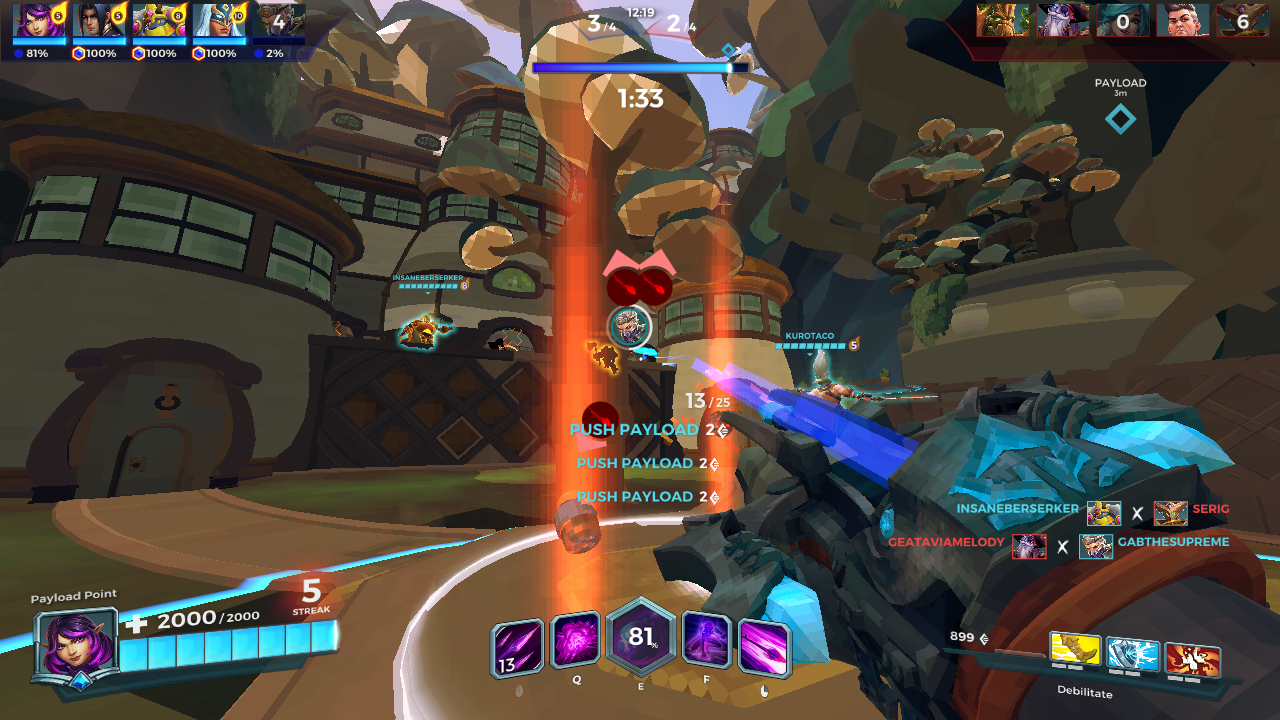model: (586, 340, 622, 377)
